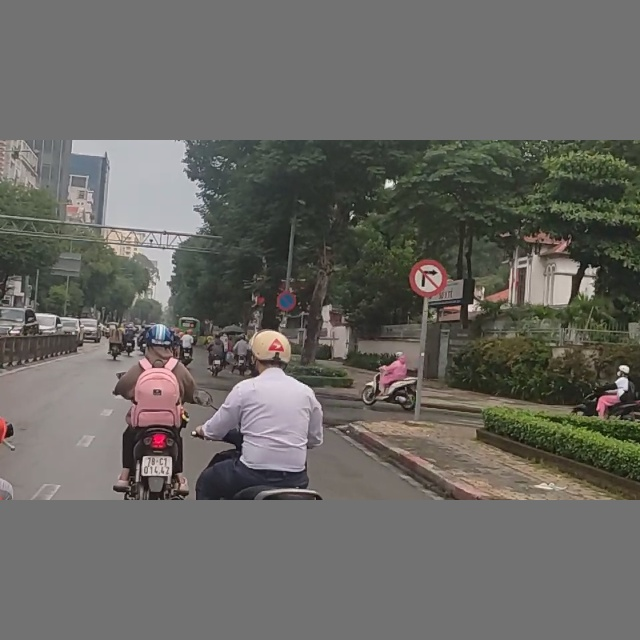P.123b: (410, 258, 447, 296)
P.131a: (277, 291, 297, 311)
